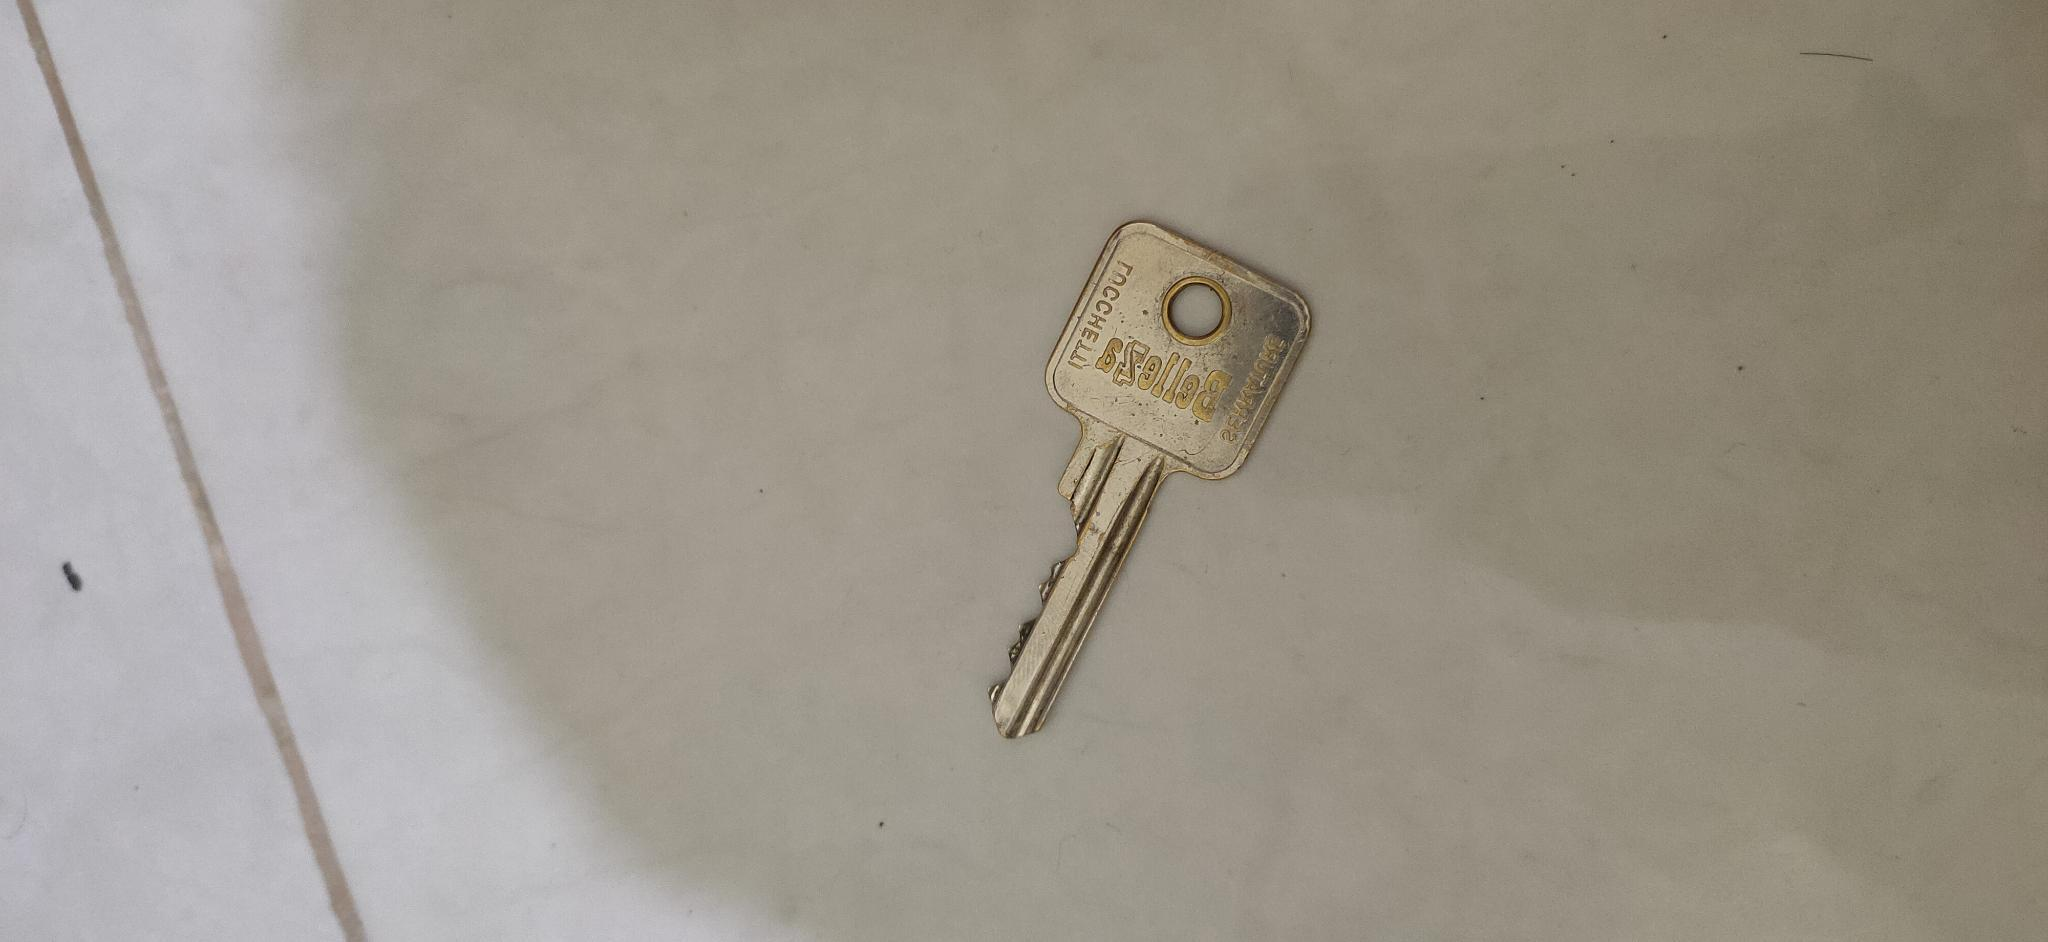keys: (955, 223, 1323, 766)
